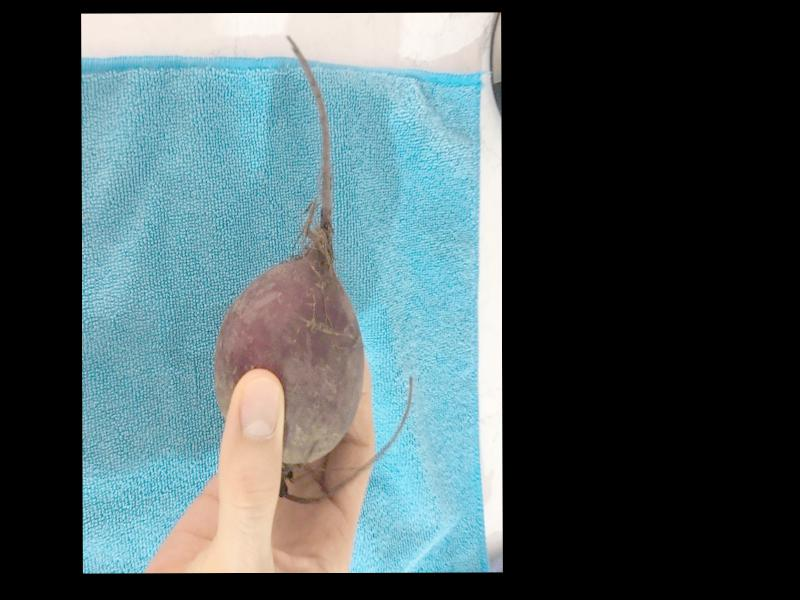Beet: (212, 33, 411, 502)
